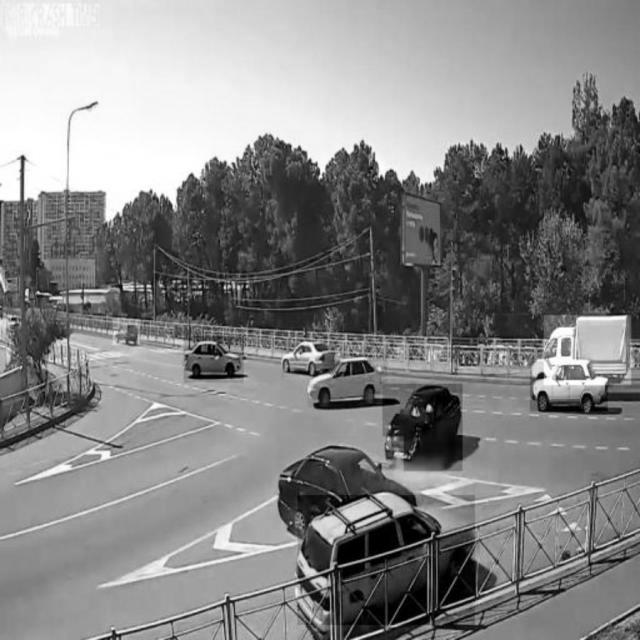vehicle: (298, 496, 475, 626), (276, 437, 404, 530), (383, 384, 463, 472), (544, 315, 632, 385), (308, 356, 388, 408), (531, 361, 608, 411), (184, 336, 244, 382), (282, 336, 338, 378), (113, 319, 140, 345)
